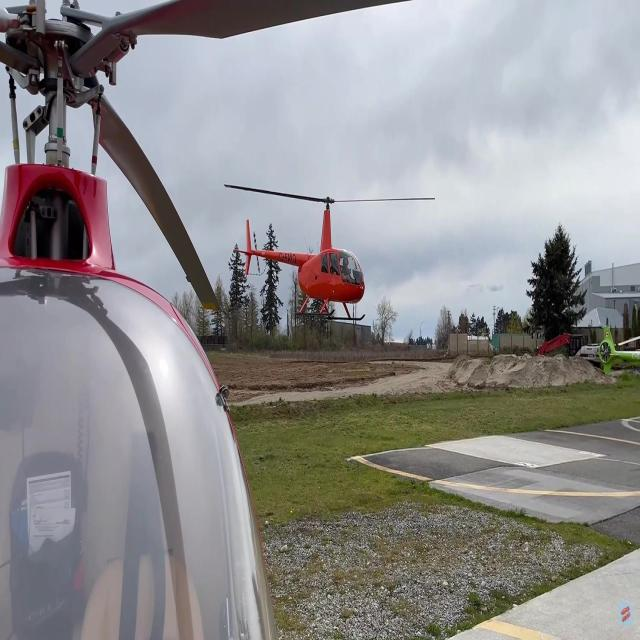CIV_HELO: (232, 195, 368, 324)
